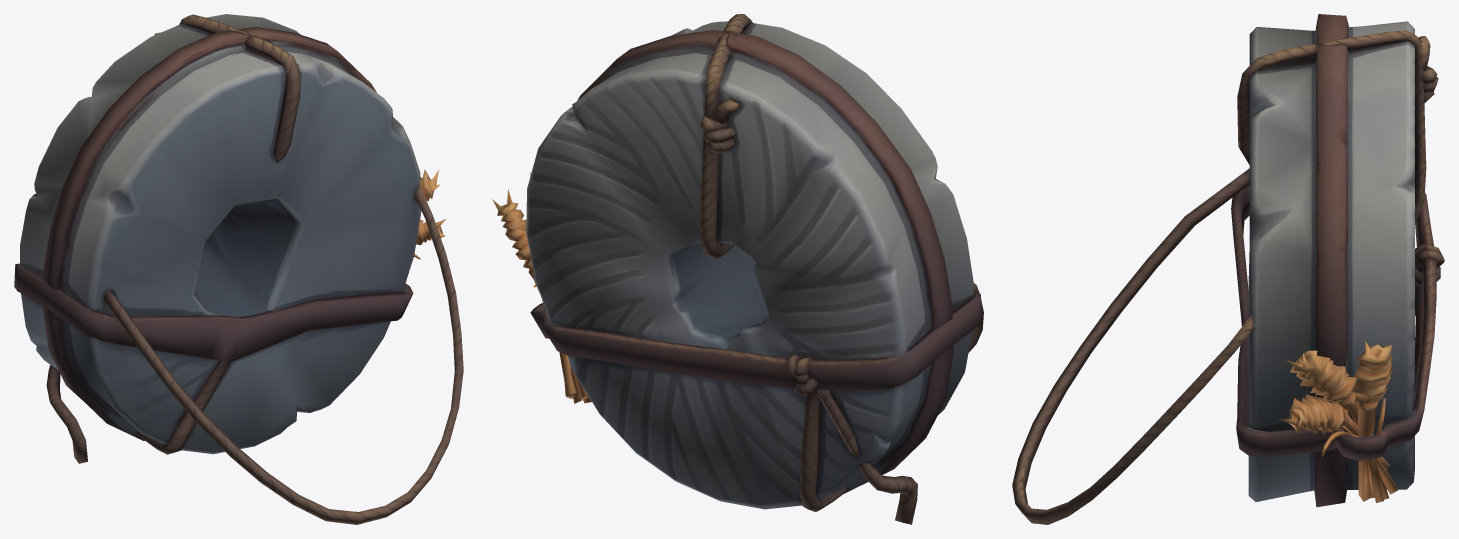
The model's file is vintner_wicker_millstone_tripo.glb.
3 renders of one model, left to right at view 1: azimuth 30°, elevation 25°; view 2: azimuth 150°, elevation 25°; view 3: azimuth 270°, elevation 25°, orthographic. The views are drawn at different scales.
Visible parts, largest first — view 1: tripo_node_0bc2f03f-916f-4c50-a935-e5a4eb0a4792; view 2: tripo_node_0bc2f03f-916f-4c50-a935-e5a4eb0a4792; view 3: tripo_node_0bc2f03f-916f-4c50-a935-e5a4eb0a4792.
Boxes of the visible parts, x1,y1,x2,y2 form: tripo_node_0bc2f03f-916f-4c50-a935-e5a4eb0a4792: (14, 14, 463, 524); tripo_node_0bc2f03f-916f-4c50-a935-e5a4eb0a4792: (492, 14, 983, 524); tripo_node_0bc2f03f-916f-4c50-a935-e5a4eb0a4792: (1012, 14, 1444, 524).
Size of the model in its own units: 0.998 by 0.9785 by 0.8223.
1 material, 1 textured.
